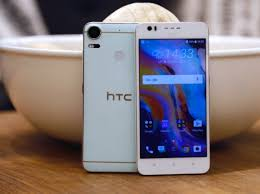htc: (135, 17, 210, 177), (81, 18, 137, 174)
